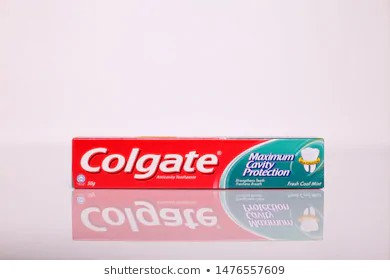colgate-small: (72, 137, 326, 190)
